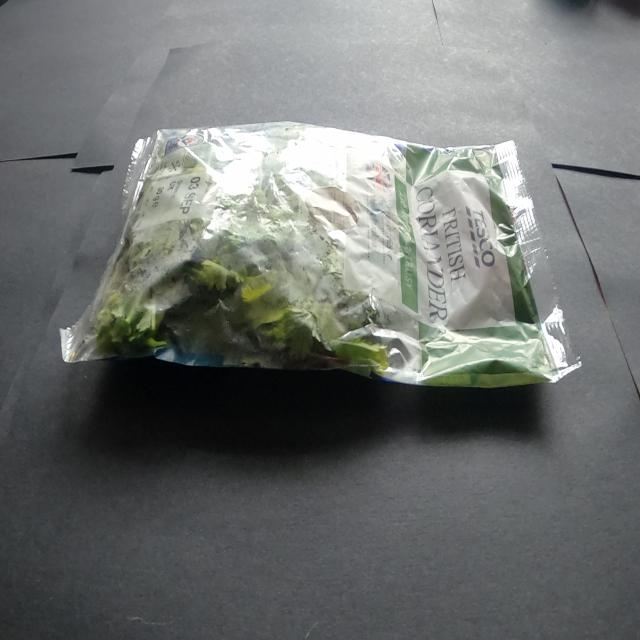Cilantro: (50, 117, 594, 413)
